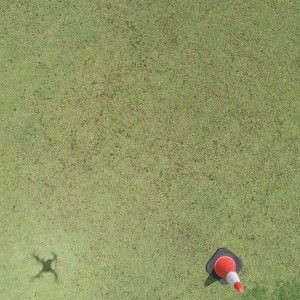traffic cone: (206, 247, 243, 292)
